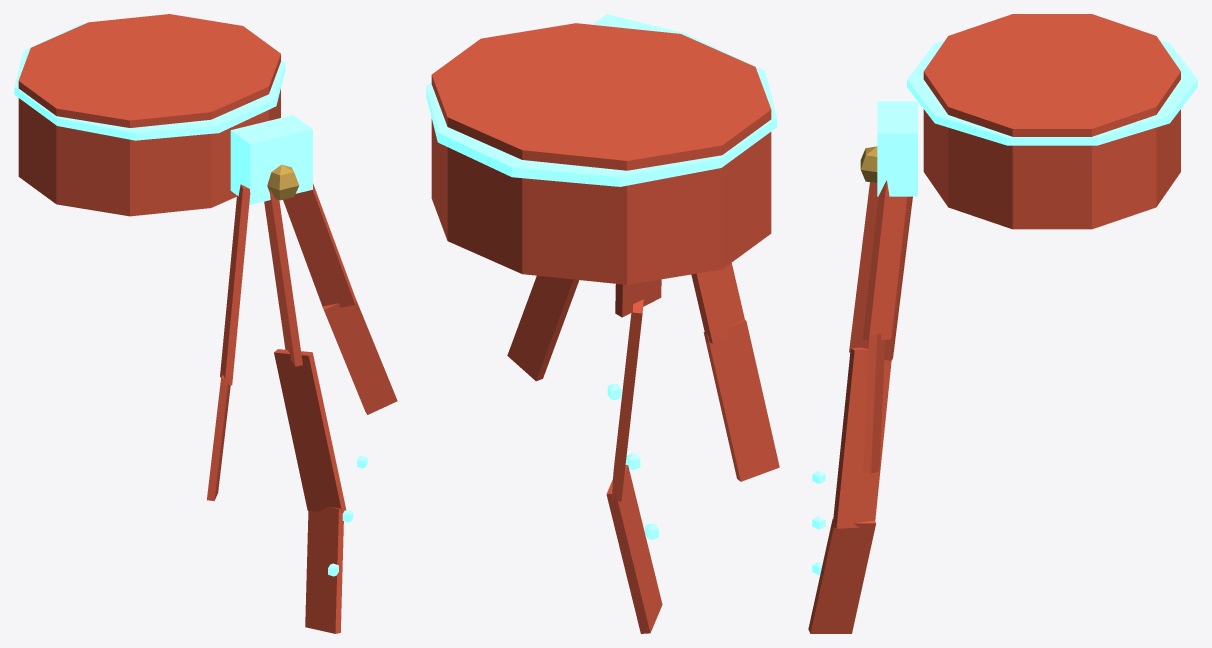
File: gear_tti_t5.glb
3 views of the same model, side by side, from view 1: azimuth 30°, elevation 25°; view 2: azimuth 150°, elevation 25°; view 3: azimuth 270°, elevation 25° (orthographic). The views are drawn at different scales.
Parts seen in each view (by area): view 1: gear_tti_t5; view 2: gear_tti_t5; view 3: gear_tti_t5.
Part boxes in pixels (<box>): gear_tti_t5: <box>14,14,397,633</box>; gear_tti_t5: <box>426,14,779,633</box>; gear_tti_t5: <box>808,14,1197,633</box>.
Size of the model in its own units: 0.5673 by 1 by 0.6672.
